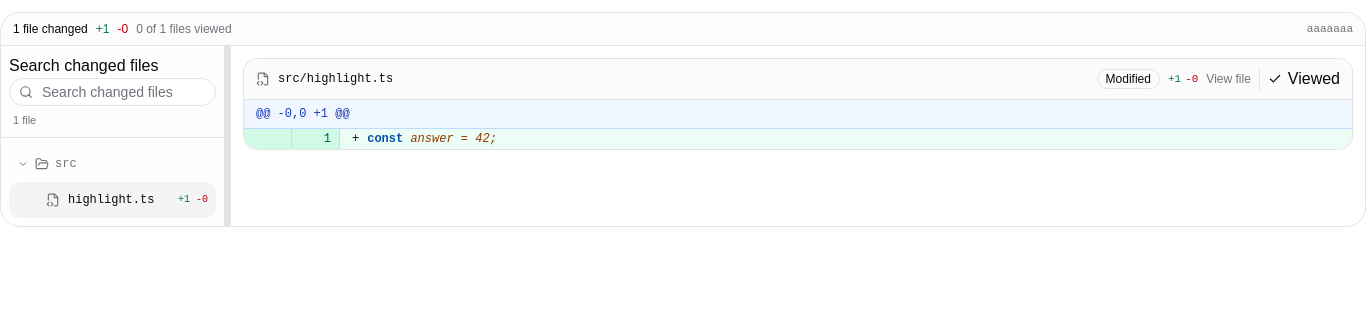
Scenario: PullDiff › renders plain text first, then replaces only line content with themed syntax tokens
Click the button named "Give Claude feedback on new line 1" at (316, 139), box [292, 129, 340, 149]
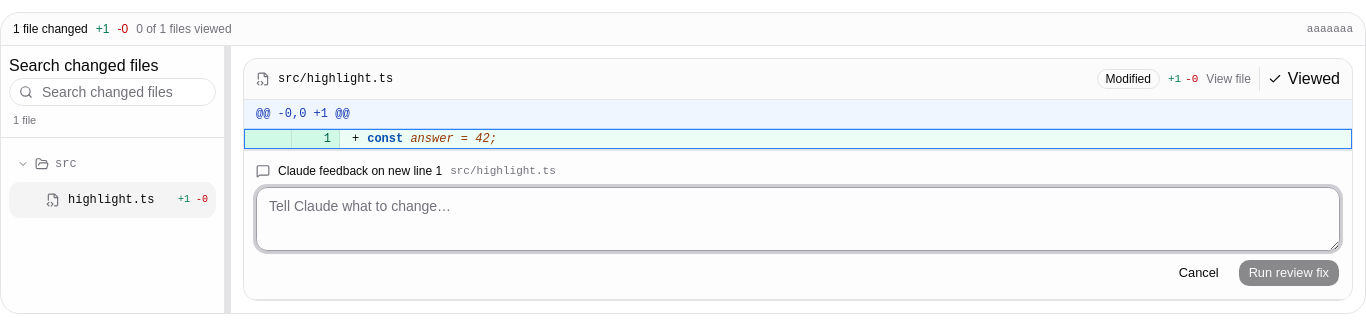
Check: the text box labelled "Claude feedback on new line 1" is shown, box [256, 187, 1340, 251]
